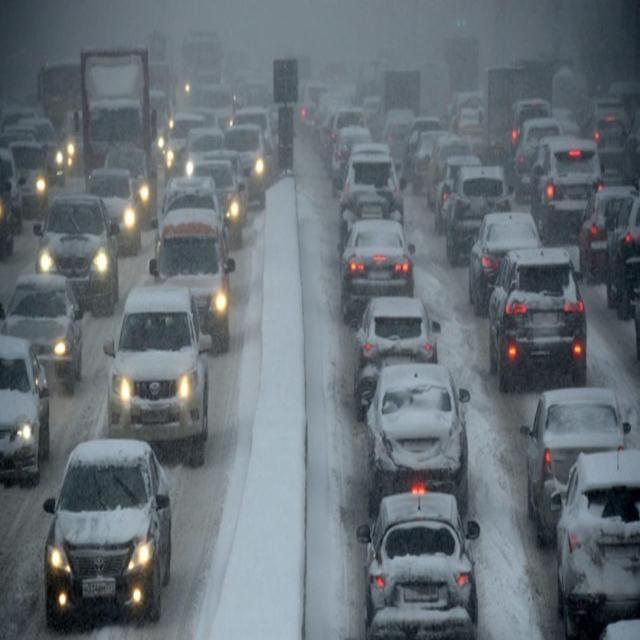Car: (34, 447, 178, 632), (359, 490, 480, 640), (363, 364, 471, 520), (104, 285, 204, 453), (522, 385, 626, 544), (554, 450, 640, 634), (488, 249, 588, 393), (143, 214, 232, 350), (352, 296, 440, 414), (1, 274, 83, 396), (34, 194, 116, 310), (340, 218, 418, 322), (470, 210, 542, 316), (0, 333, 50, 481), (532, 137, 602, 240), (441, 165, 511, 262), (338, 150, 406, 238), (579, 184, 635, 286), (185, 155, 247, 246), (84, 168, 147, 256), (512, 116, 563, 202), (223, 121, 273, 203), (5, 136, 55, 216), (424, 133, 472, 213), (330, 122, 374, 194), (589, 114, 632, 184), (404, 115, 445, 183), (163, 112, 207, 174), (0, 148, 23, 252), (382, 108, 418, 171), (58, 110, 85, 178), (454, 107, 486, 164), (589, 98, 629, 142)
Truck: (80, 36, 158, 177), (33, 36, 91, 124)
